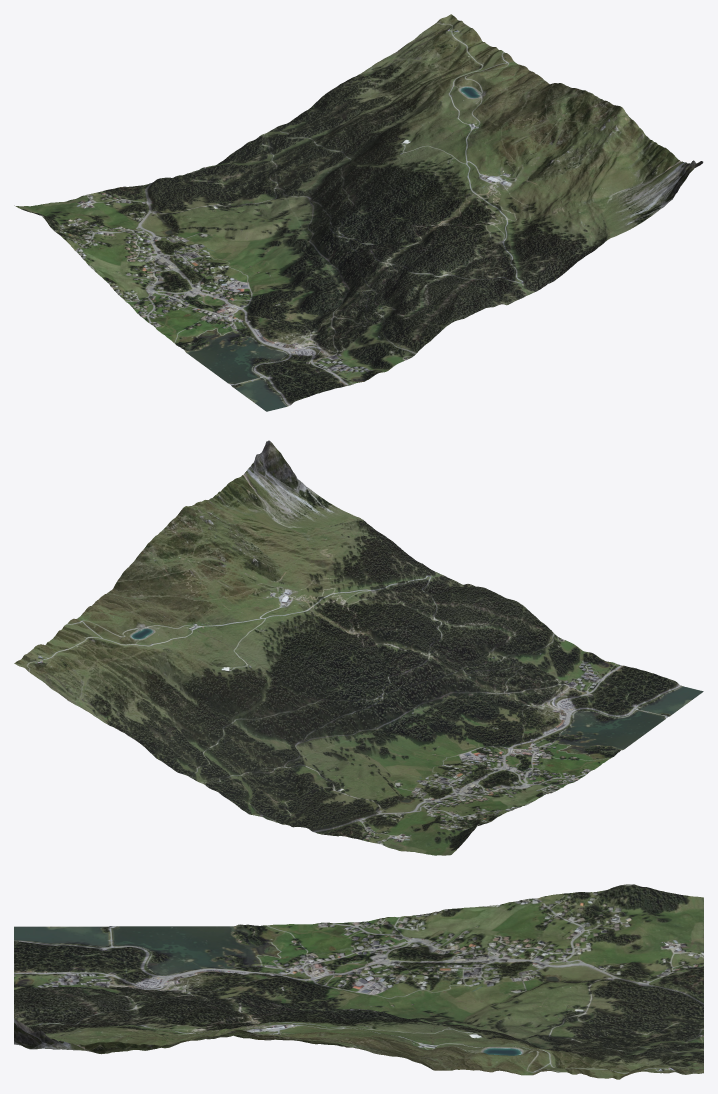
Rendered from terrain-mobile.glb.
3 renders of one model, top to bottom at view 1: azimuth 30°, elevation 25°; view 2: azimuth 150°, elevation 25°; view 3: azimuth 270°, elevation 25°, orthographic. The views are drawn at different scales.
Visible parts, largest first — view 1: Lenzerheide terrain mobile; view 2: Lenzerheide terrain mobile; view 3: Lenzerheide terrain mobile.
Part boxes in pixels (left/top/right/bottom): Lenzerheide terrain mobile: left=14, top=14, right=703, bottom=411; Lenzerheide terrain mobile: left=14, top=440, right=703, bottom=855; Lenzerheide terrain mobile: left=14, top=884, right=703, bottom=1079.
Bounding box in the file's own units: 2300 × 728 × 2300.
Materials: 1 (1 with a texture image).
